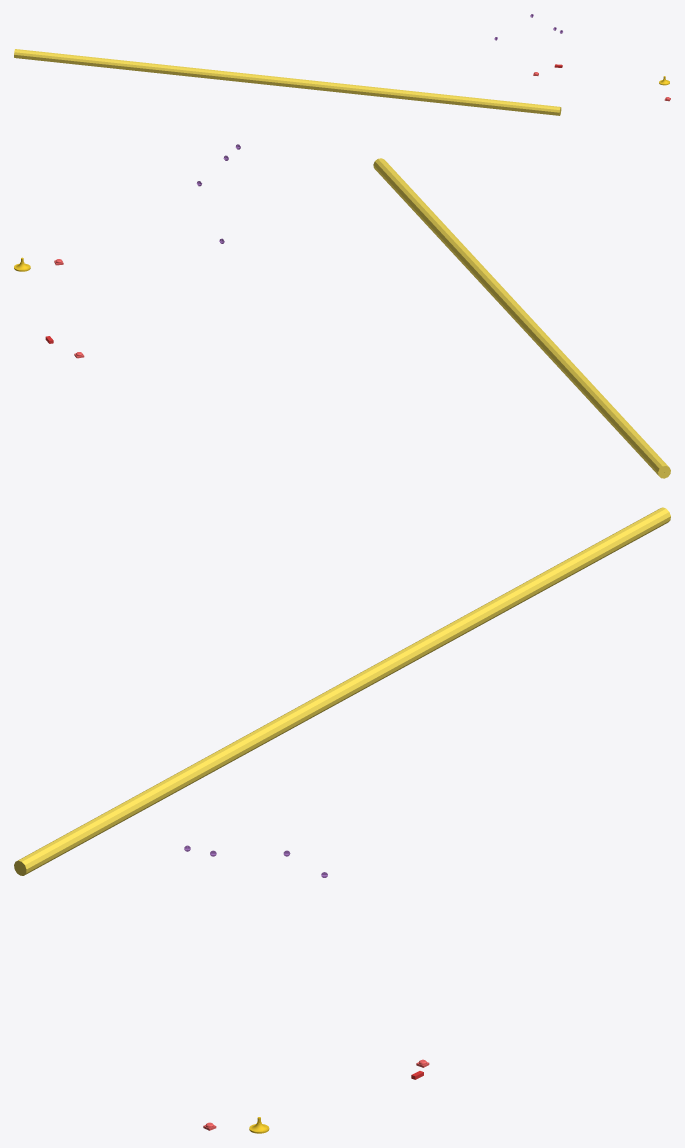
The model's file is tile_275.glb.
The picture shows the model from 3 angles, top to bottom: view 1: azimuth 30°, elevation 25°; view 2: azimuth 150°, elevation 25°; view 3: azimuth 270°, elevation 25°; orthographic projection. The views are drawn at different scales.
Size of the model in its own units: 17.12 by 3.07 by 9.92.
